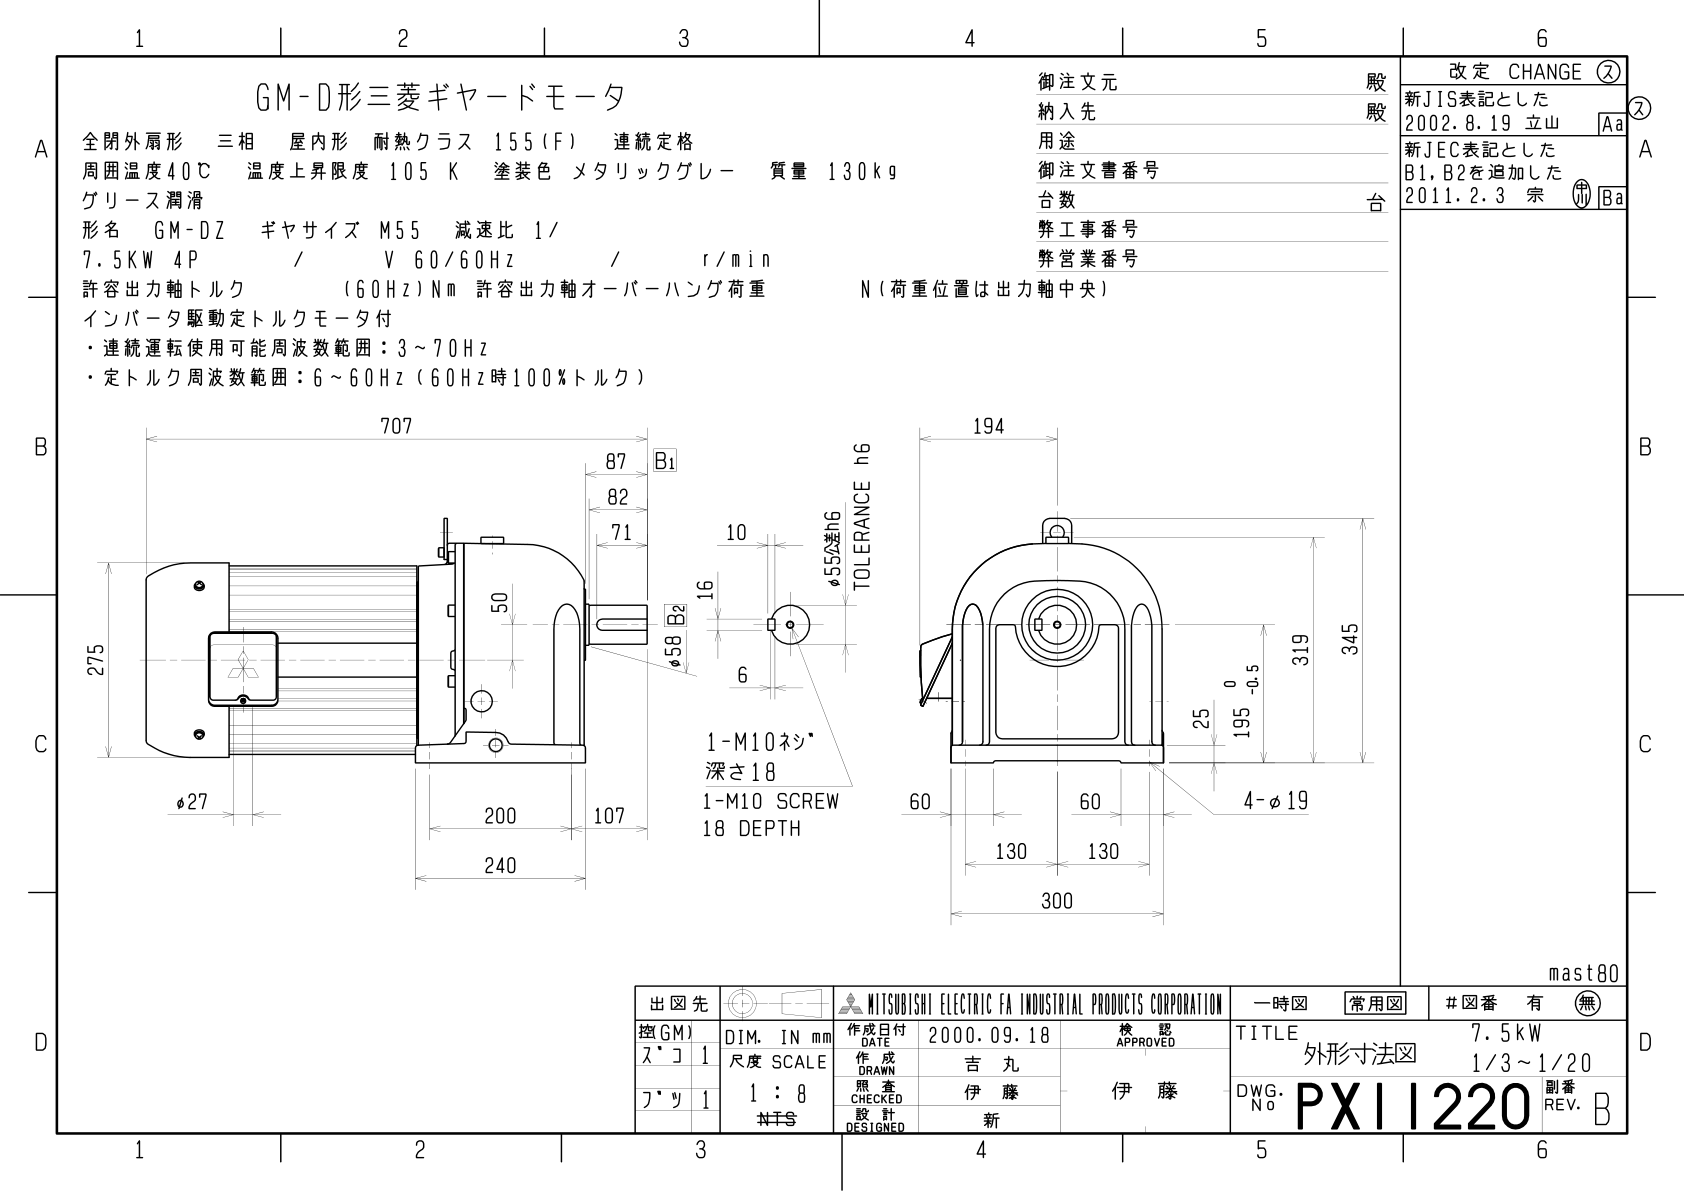GM_D_インバータ屋内_三相_脚: (8, 4, 1662, 1191)
